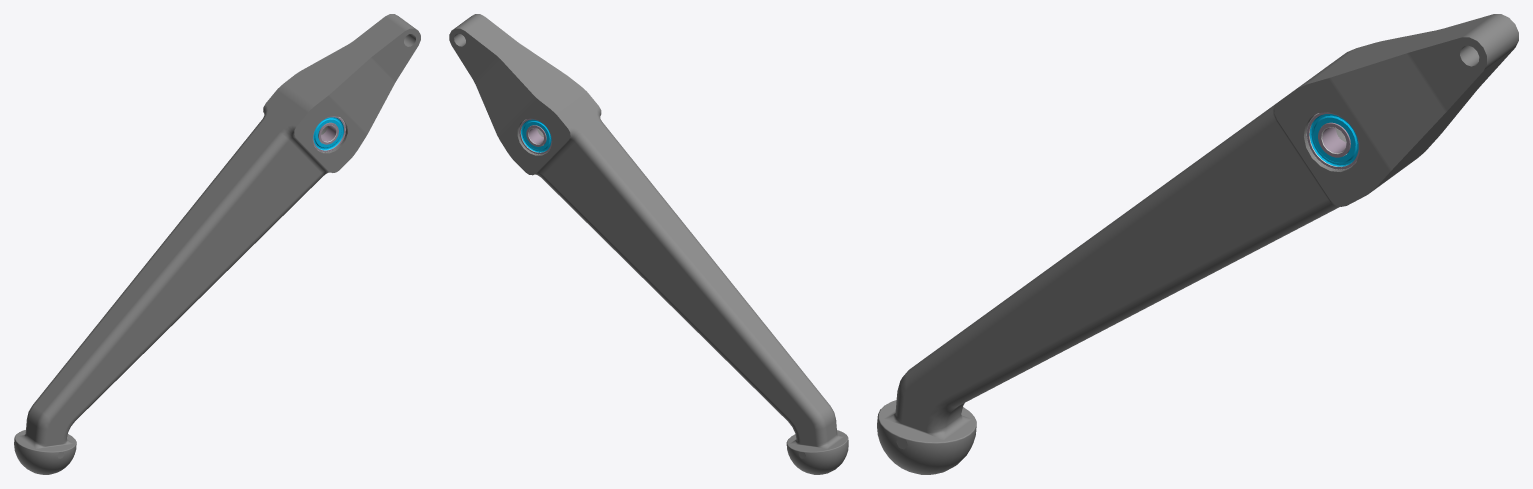
3 renders of one model, left to right at view 1: azimuth 30°, elevation 25°; view 2: azimuth 150°, elevation 25°; view 3: azimuth 330°, elevation 25°, orthographic. The views are drawn at different scales.
Parts seen in each view (by area): view 1: L3_obj.004; view 2: L3_obj.004; view 3: L3_obj.004.
Boxes of the visible parts, x1,y1,x2,y2 form: L3_obj.004: (14,14,420,474); L3_obj.004: (449,14,848,474); L3_obj.004: (877,14,1518,474).
Size of the model in its own units: 0.1015 by 0.014 by 0.091.
